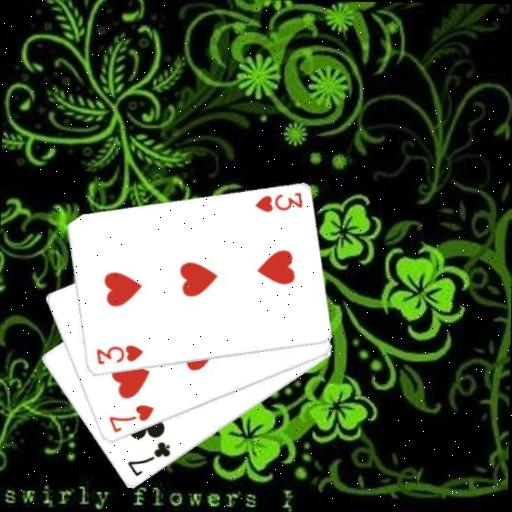3H: (251, 189, 304, 215), (93, 341, 144, 367)
7C: (125, 438, 173, 479)
7H: (105, 401, 156, 436)
